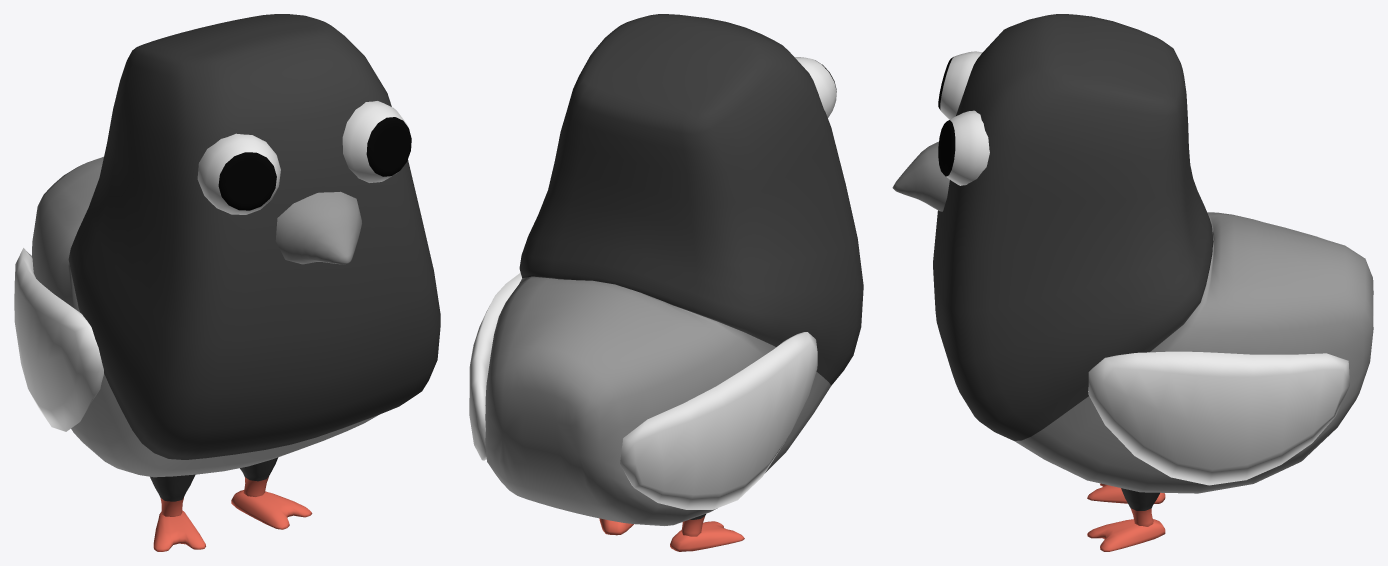
File: Pigeon_HighPoly.fbx
3 views of the same model, side by side, from view 1: azimuth 30°, elevation 25°; view 2: azimuth 150°, elevation 25°; view 3: azimuth 270°, elevation 25° (orthographic). The views are drawn at different scales.
Visible parts, largest first — view 1: Cube.001; view 2: Cube.001; view 3: Cube.001.
Part boxes in pixels (bbox=[...]): Cube.001: bbox=[14, 14, 440, 551]; Cube.001: bbox=[469, 14, 863, 551]; Cube.001: bbox=[892, 14, 1373, 551].
Bounding box in the file's own units: 91.5 × 142 × 129.
